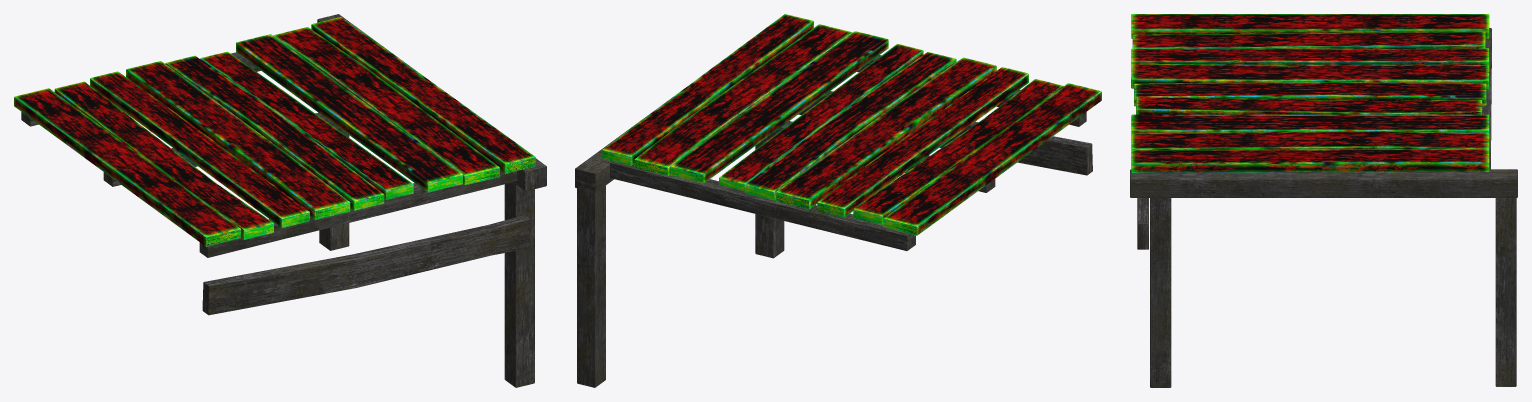
Rendered from SM_PlankFloor_Floor4.fbx.
3 views of the same model, side by side, from view 1: azimuth 30°, elevation 25°; view 2: azimuth 150°, elevation 25°; view 3: azimuth 270°, elevation 25° (orthographic). The views are drawn at different scales.
Visible parts, largest first — view 1: SM_PlankFloor_Floor4_LOD0; view 2: SM_PlankFloor_Floor4_LOD0; view 3: SM_PlankFloor_Floor4_LOD0.
Part boxes in pixels (box(x1,y1,x2,y2)): SM_PlankFloor_Floor4_LOD0: box(14, 14, 546, 387); SM_PlankFloor_Floor4_LOD0: box(575, 14, 1101, 387); SM_PlankFloor_Floor4_LOD0: box(1130, 14, 1517, 387).
Bounding box in the file's own units: 307 × 325 × 204.
